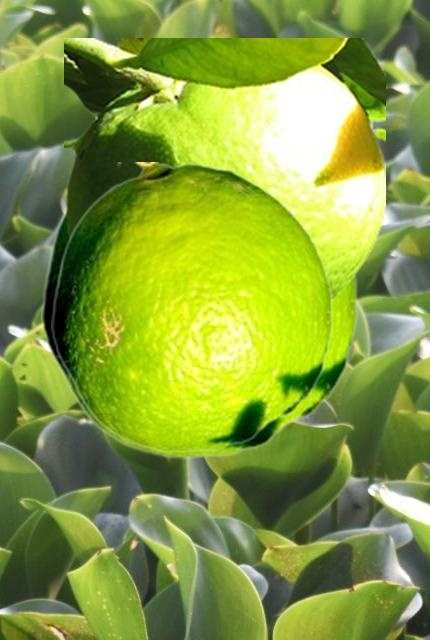dalandan: (64, 38, 384, 304), (51, 162, 332, 452), (41, 206, 357, 458)
